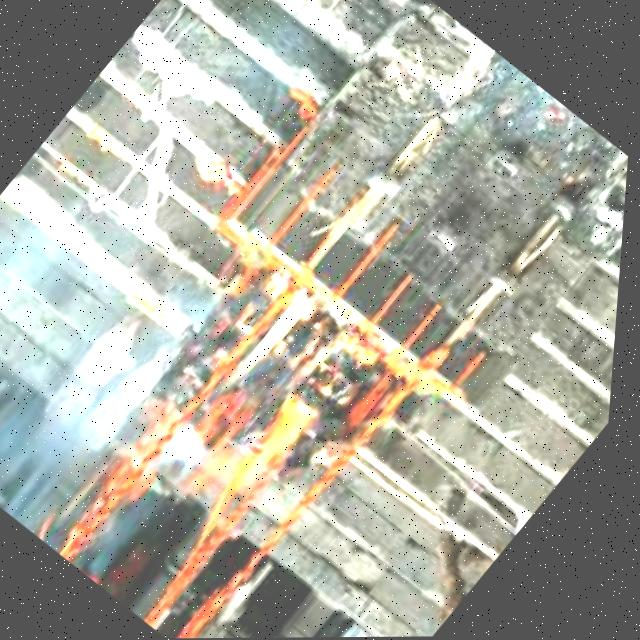Fire: (136, 269, 393, 535)
